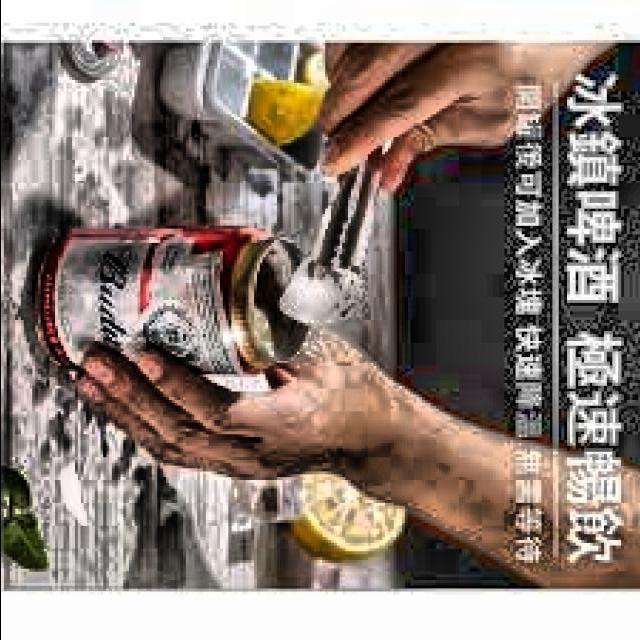Aluminum Can: (28, 222, 314, 384)
